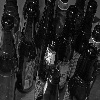beer: (23, 13, 42, 95)
